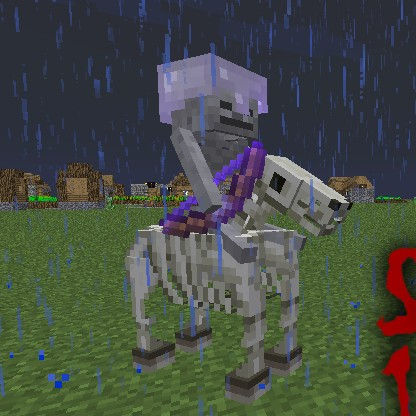skeleton: (147, 50, 289, 185)
